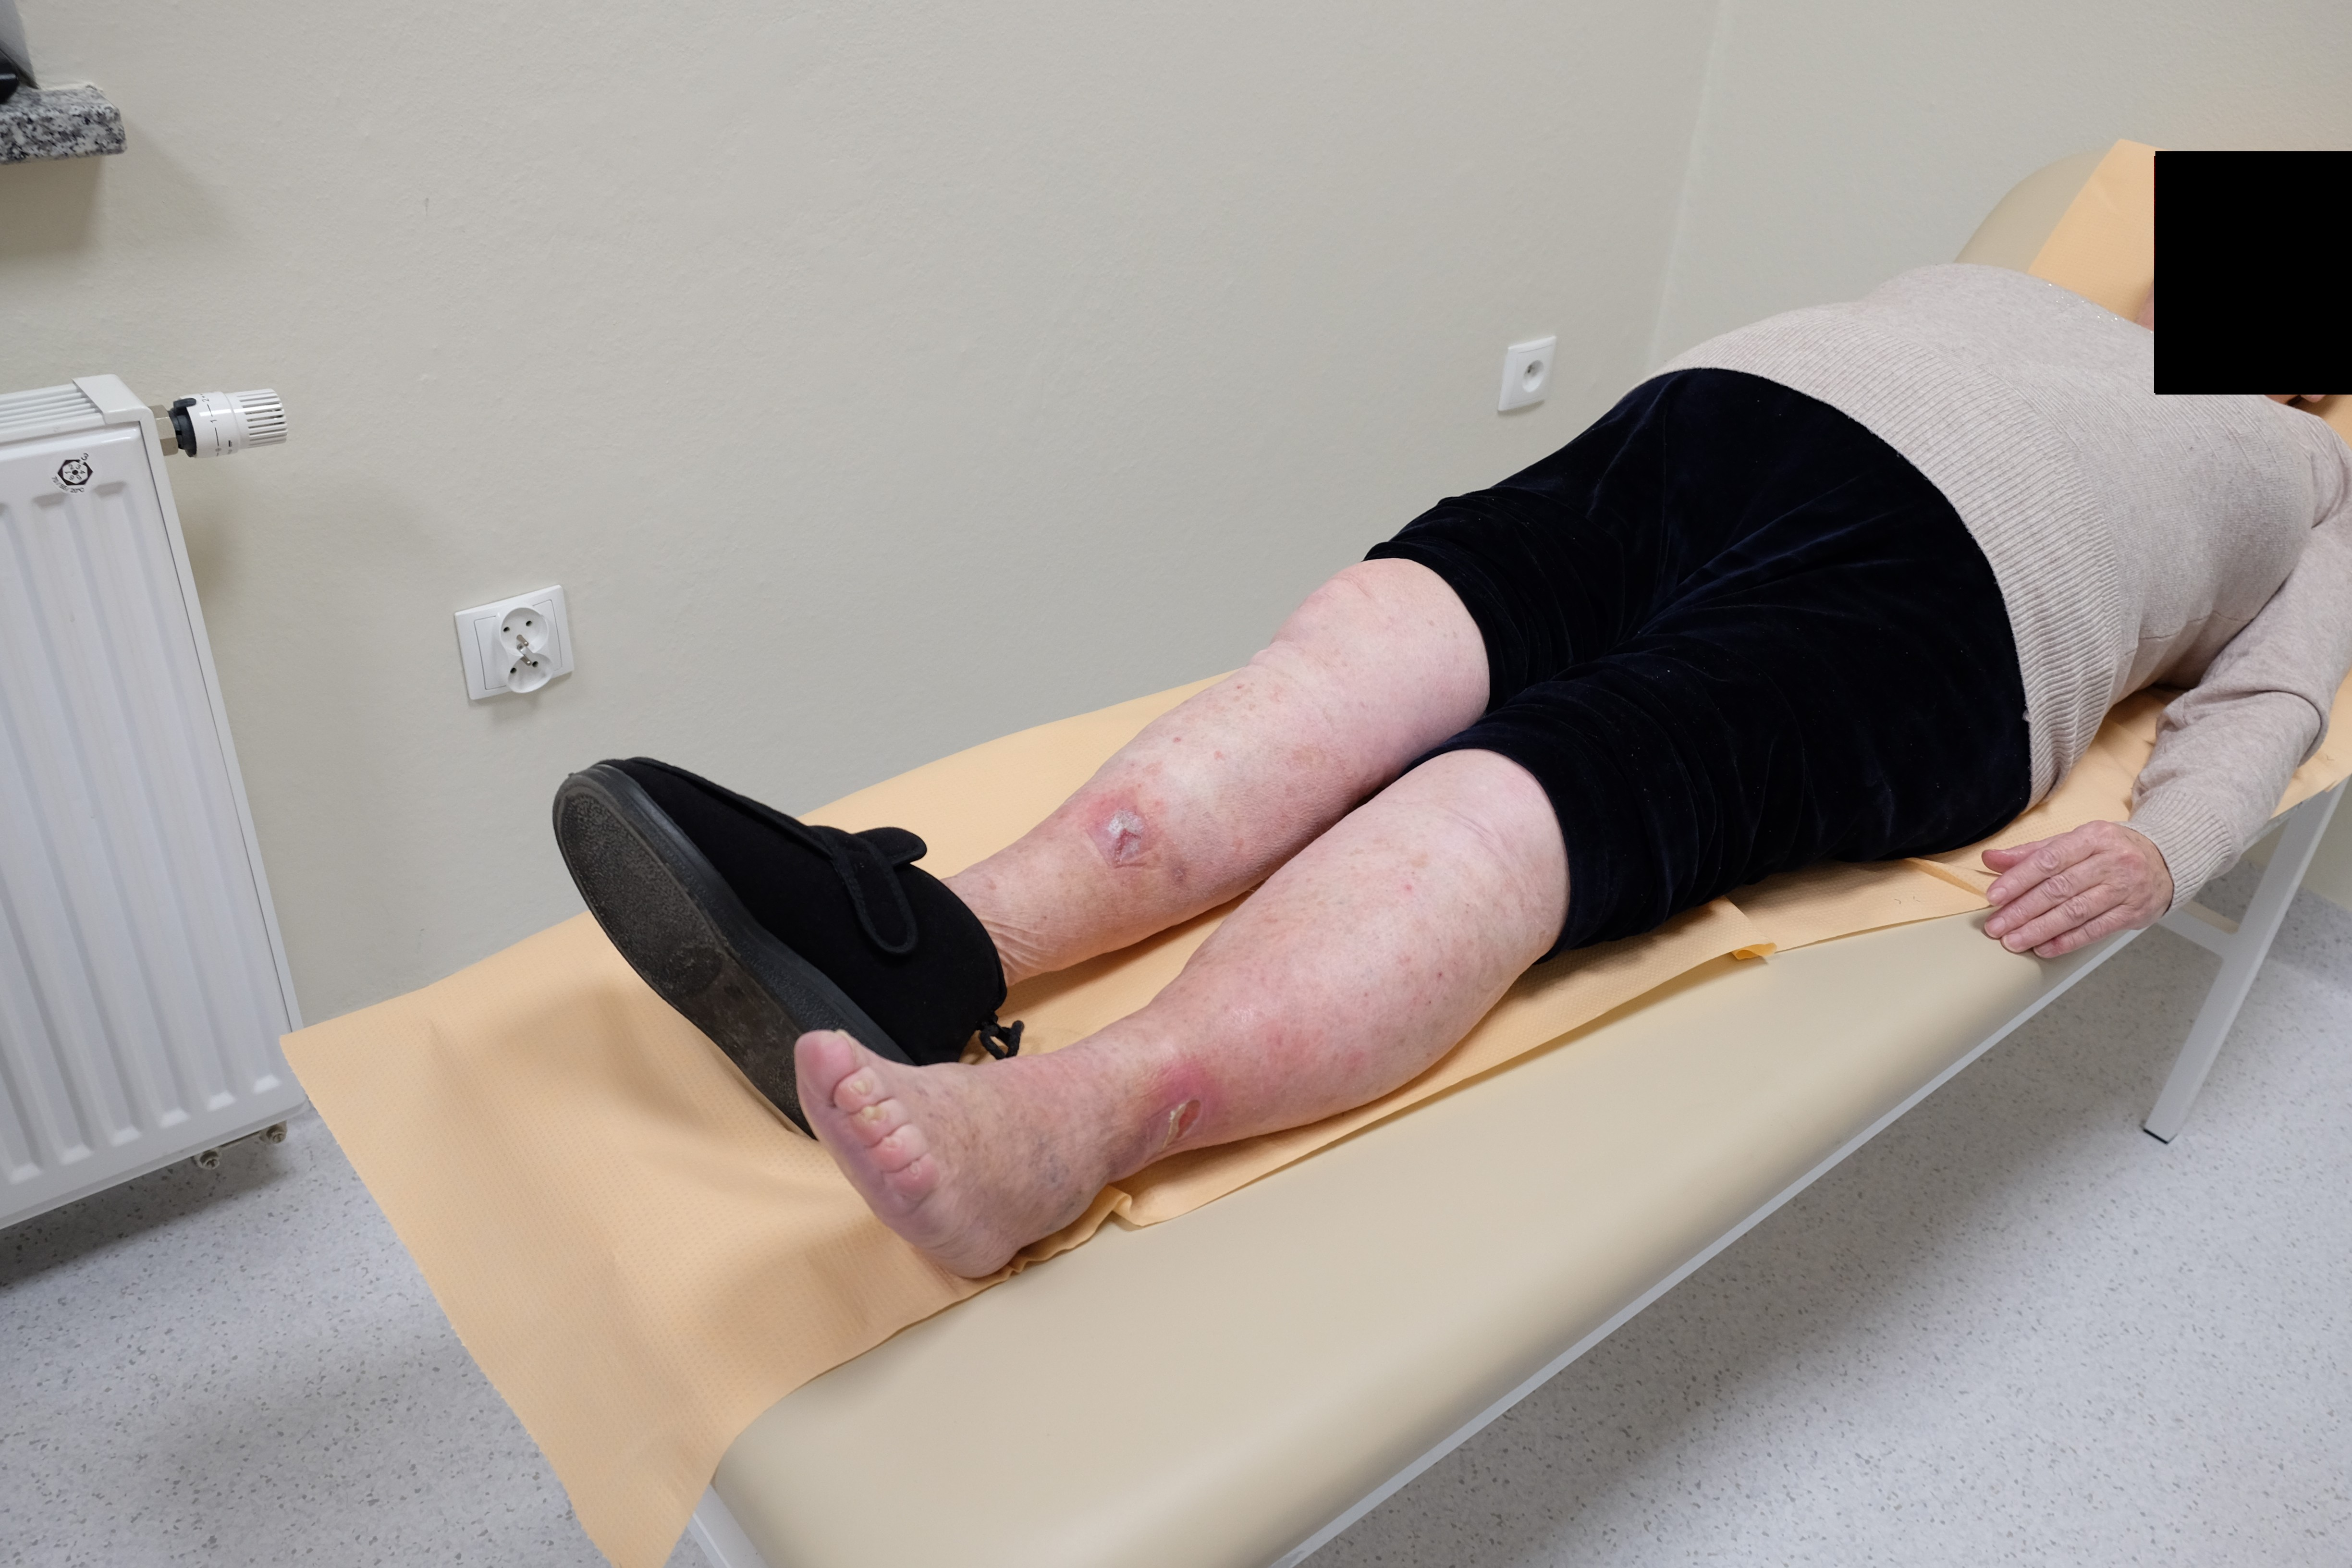wound: (1157, 1095, 1204, 1153), (1104, 814, 1153, 863)
